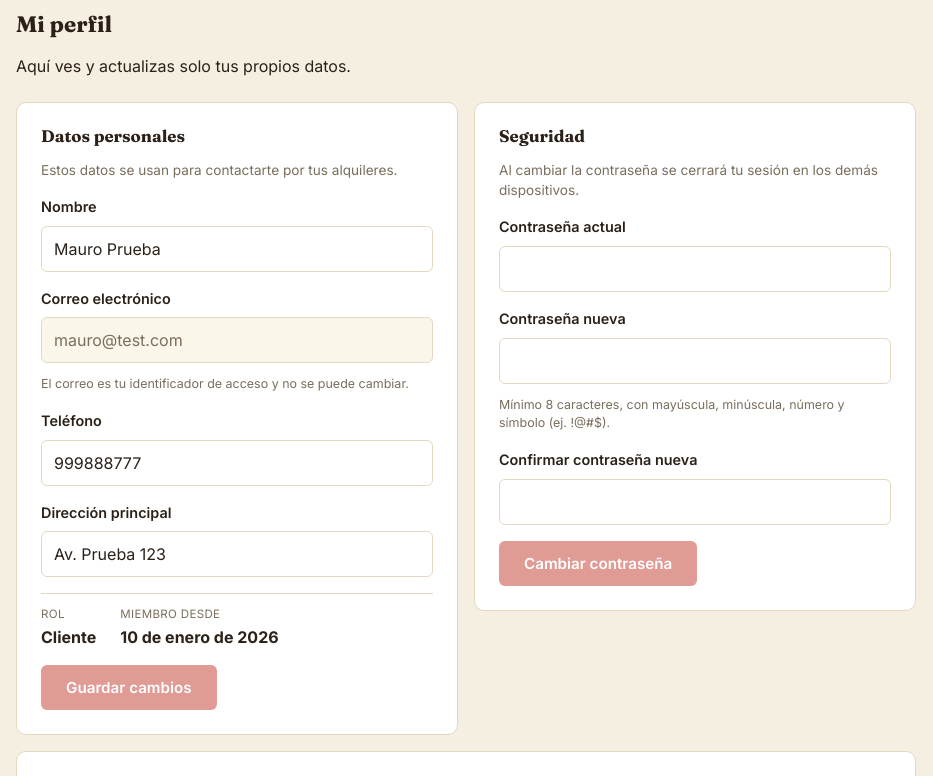
Scenario: Pruebas funcionales - Perfil › PF-FE-76: impide cambiar la contraseña cuando la confirmación no coincide
Type "Actual123!" into the password field labelled "Contraseña actual". click: (695, 269)
box: [499, 246, 891, 292]
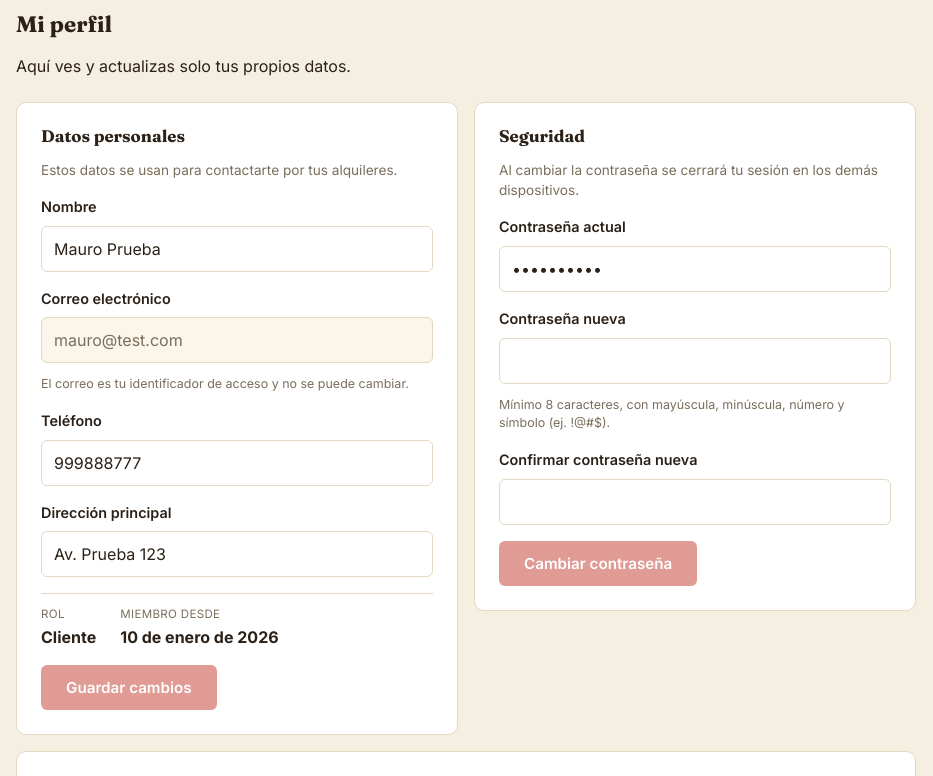
Type "Nueva123!" into the password field labelled "Contraseña nueva". click: (695, 361)
box: [499, 338, 891, 384]
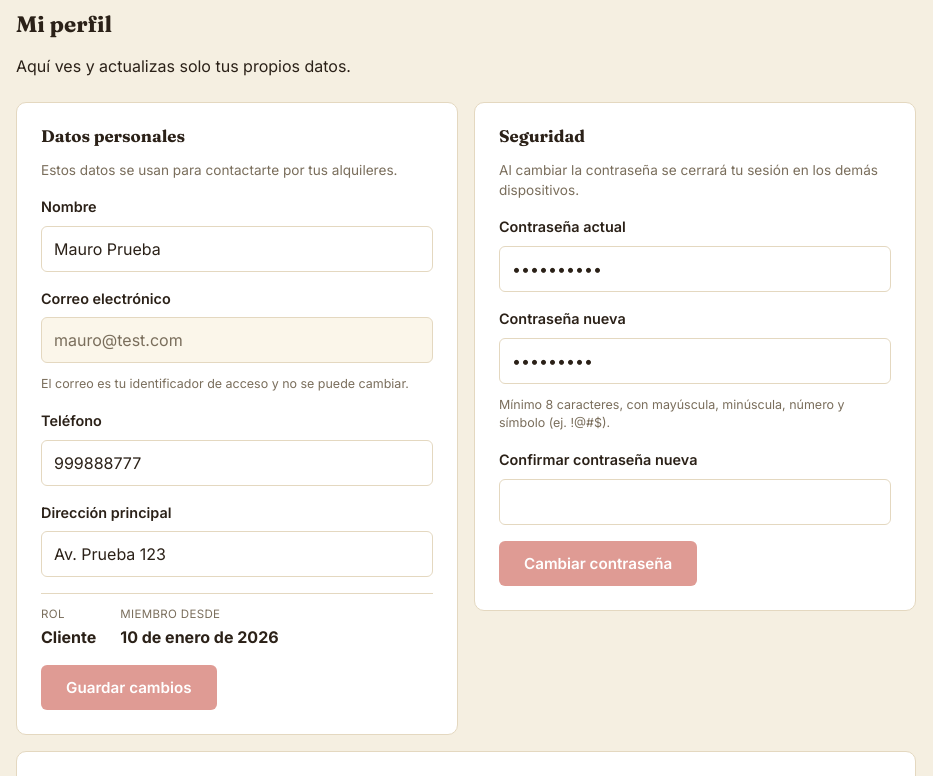
Type "Otra123!" into the password field labelled "Confirmar contraseña nueva". click: (695, 502)
box: [499, 479, 891, 525]
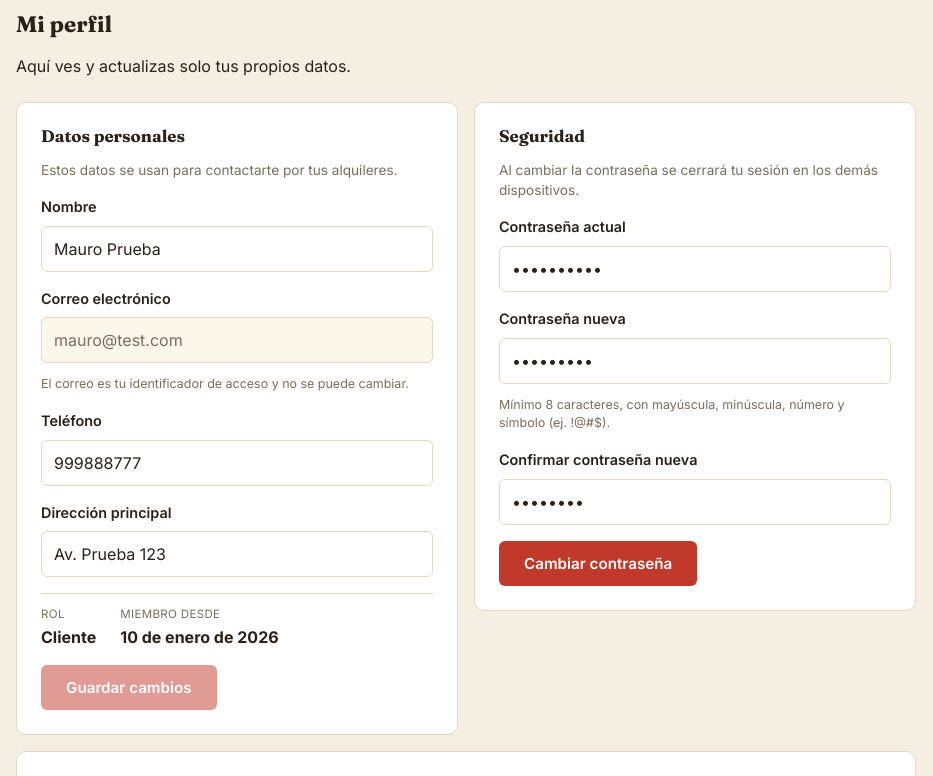
Click the button "Cambiar contraseña". click: (598, 563)
box: [499, 541, 697, 586]
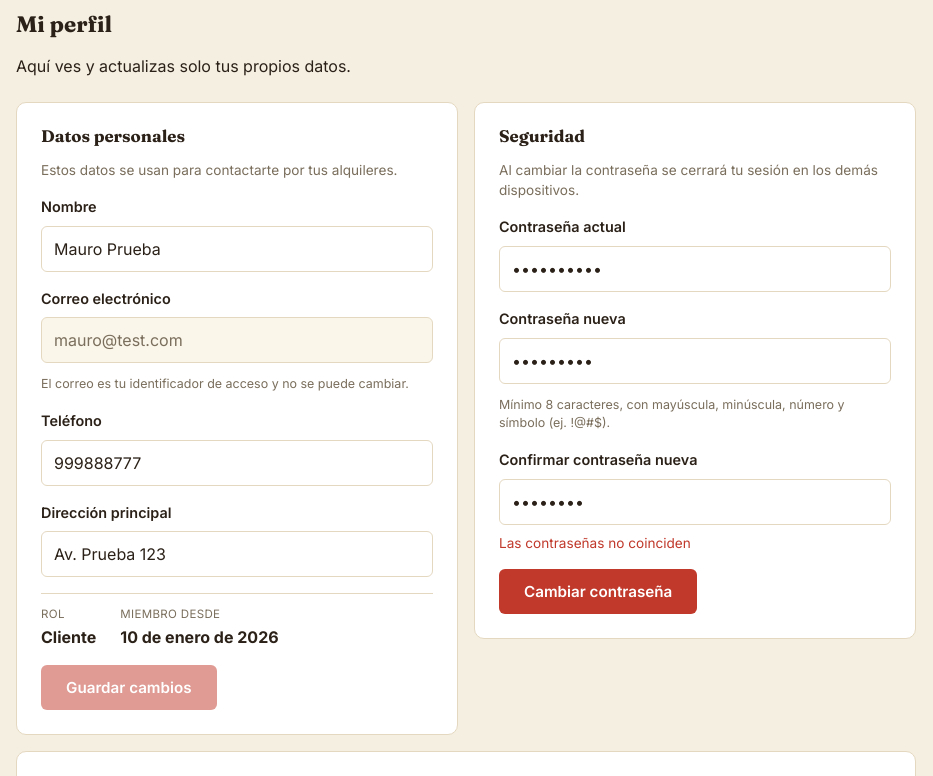
Check: the text "Las contraseñas no coinciden" is shown, box [499, 535, 691, 551]
